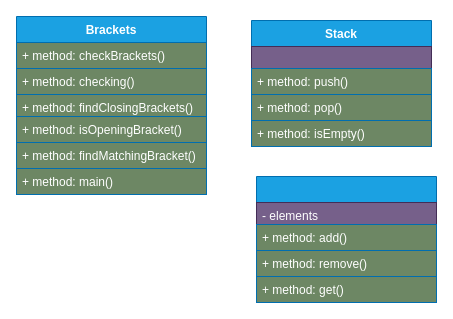
The diagram is 453 pixels wide and 319 high, and some of its shapes have lost their labels. The box of each missing label's shape, as (x1, y1, x2, y2) in pixels:
- items: (250, 46, 432, 68)
List: (256, 176, 436, 224)
